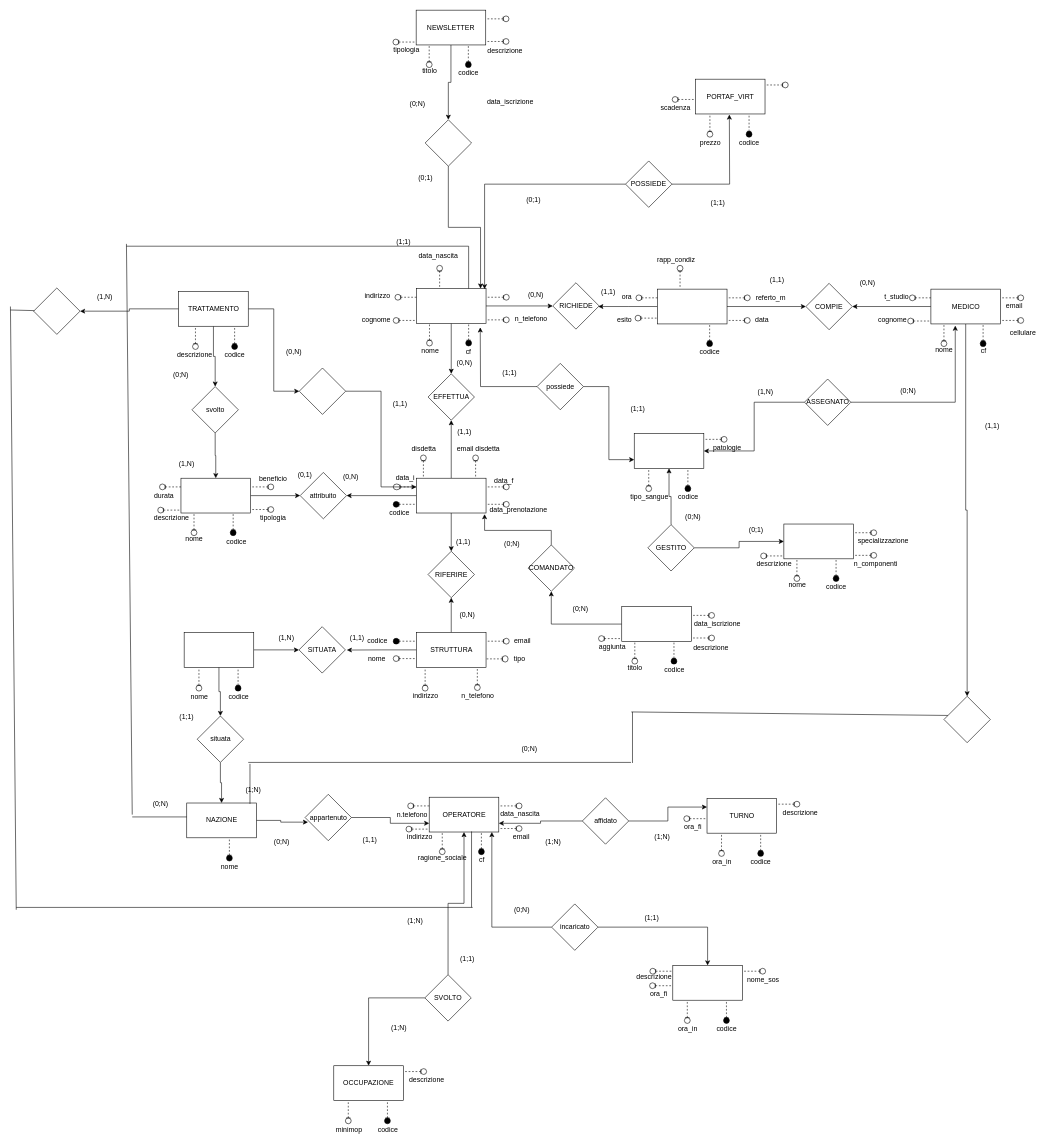
The diagram is 1050 pixels wide and 1146 high, and some of its shapes have lost their labels. Each missing label, with the centre of its shape:
associata: pixel 966 719
CITTA': pixel 219 649
CLIENTE: pixel 451 305
compreso: pixel 322 390
CONSULTO: pixel 692 306
DATOS_CLIENTE: pixel 669 450
ESEGUE: pixel 56 310
ISCRITTO: pixel 448 142
PERCORSO: pixel 215 495
PRENOTAZIONE: pixel 451 495
SERVIZIO_EXTRA: pixel 656 623
SOSTITUZIONE: pixel 707 982
TEAM_MEDICO: pixel 818 541
